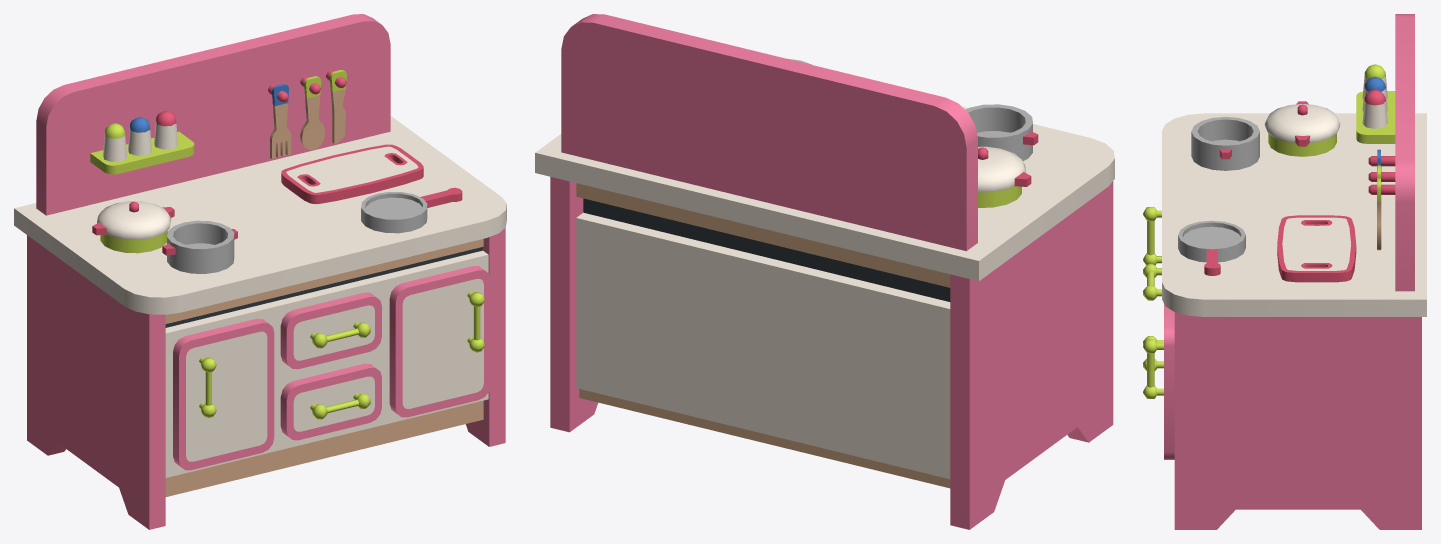
File: Counter_01.fbx
The picture shows the model from 3 angles, left to right: view 1: azimuth 30°, elevation 25°; view 2: azimuth 150°, elevation 25°; view 3: azimuth 270°, elevation 25°; orthographic projection. The views are drawn at different scales.
Visible parts, largest first — view 1: Counter_01, Counter_01_Door_Right, Counter_01_Door_Left, Counter_01_Drawer_Top, Counter_01_Drawer_Bottom, Counter_01_Pan, Counter_01_Dish_02_Lid, Counter_01_Spoon, Counter_01_Fork, Counter_01_Knife, Counter_01_Spice_Blue, Counter_01_Spice_Green (+1 smaller); view 2: Counter_01, Counter_01_Dish_02_Lid; view 3: Counter_01, Counter_01_Pan, Counter_01_Dish_02_Lid, Counter_01_Door_Right, Counter_01_Spice_Pink, Counter_01_Door_Left, Counter_01_Drawer_Top, Counter_01_Spice_Blue, Counter_01_Knife, Counter_01_Spice_Green.
Part boxes in pixels (bbox=[...]): Counter_01: bbox=[14, 14, 506, 529]; Counter_01_Door_Right: bbox=[389, 266, 490, 417]; Counter_01_Door_Left: bbox=[173, 318, 274, 470]; Counter_01_Drawer_Top: bbox=[280, 292, 381, 369]; Counter_01_Drawer_Bottom: bbox=[280, 363, 381, 440]; Counter_01_Pan: bbox=[361, 187, 462, 233]; Counter_01_Dish_02_Lid: bbox=[92, 201, 174, 239]; Counter_01_Spoon: bbox=[300, 76, 325, 150]; Counter_01_Fork: bbox=[270, 84, 291, 158]; Counter_01_Knife: bbox=[329, 70, 346, 143]; Counter_01_Spice_Blue: bbox=[128, 117, 152, 155]; Counter_01_Spice_Green: bbox=[103, 123, 126, 161]; Counter_01: bbox=[535, 14, 1114, 529]; Counter_01_Dish_02_Lid: bbox=[978, 146, 1031, 192]; Counter_01: bbox=[1162, 14, 1426, 529]; Counter_01_Pan: bbox=[1178, 220, 1245, 275]; Counter_01_Dish_02_Lid: bbox=[1264, 101, 1340, 146]; Counter_01_Door_Right: bbox=[1143, 304, 1174, 459]; Counter_01_Spice_Pink: bbox=[1362, 89, 1387, 128]; Counter_01_Door_Left: bbox=[1143, 207, 1161, 265]; Counter_01_Drawer_Top: bbox=[1143, 264, 1161, 300]; Counter_01_Spice_Blue: bbox=[1362, 76, 1387, 111]; Counter_01_Knife: bbox=[1377, 178, 1381, 250]; Counter_01_Spice_Green: bbox=[1362, 64, 1387, 98].
Bounding box in the file's own units: 0.9651 × 0.8549 × 0.6216.
